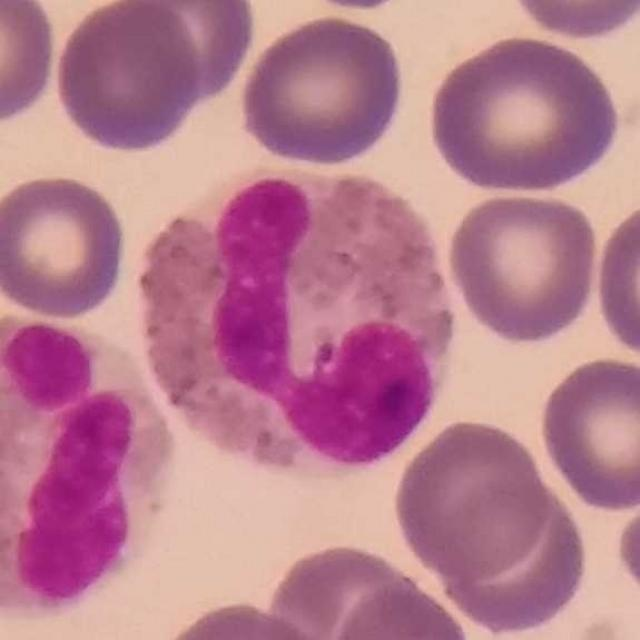eosino: (143, 165, 458, 473), (1, 311, 173, 624)
